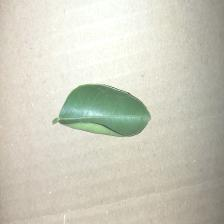healthy: (56, 84, 154, 152)
